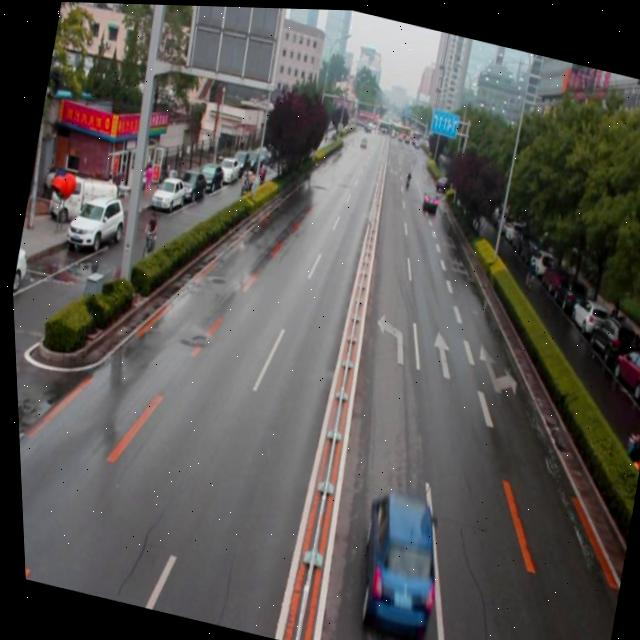car: (339, 482, 449, 632), (416, 185, 441, 211)
